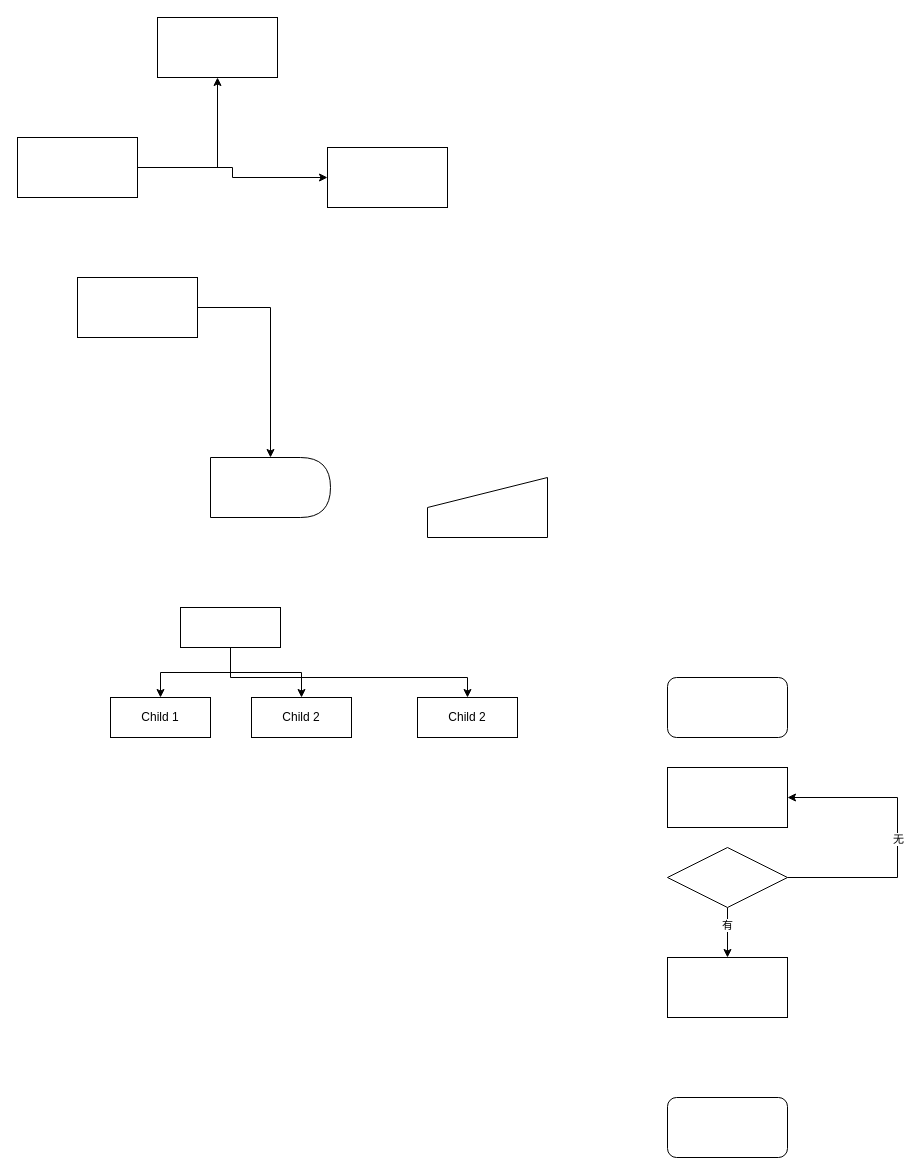
Image size: 923x1175. Some labels were removed from this diagram. The centre of each missing label's shape, as x and y in pixels:
"d在家吗" belongs at pixel 270 487.
"Root" belongs at pixel 230 627.
